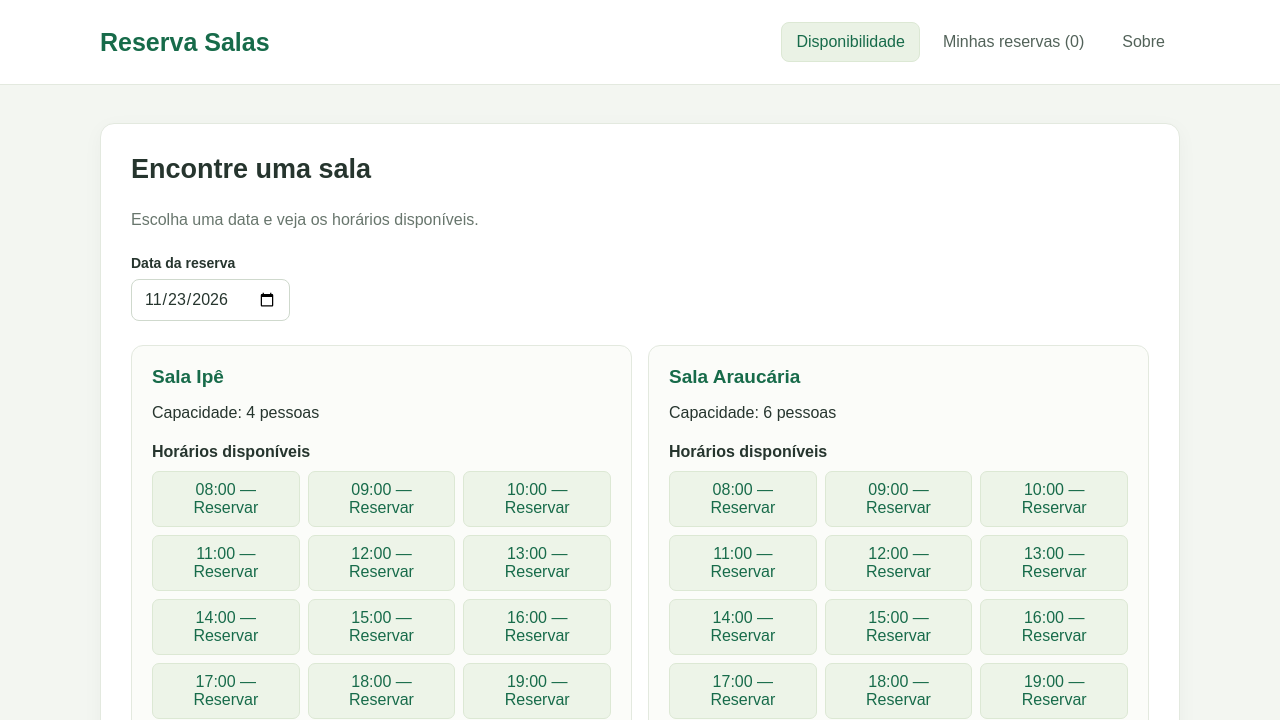
Reserva Salas › permite navegar até a seção Sobre
Click the button "Sobre" at (1144, 42), box x1=1107 y1=22 x2=1180 y2=62
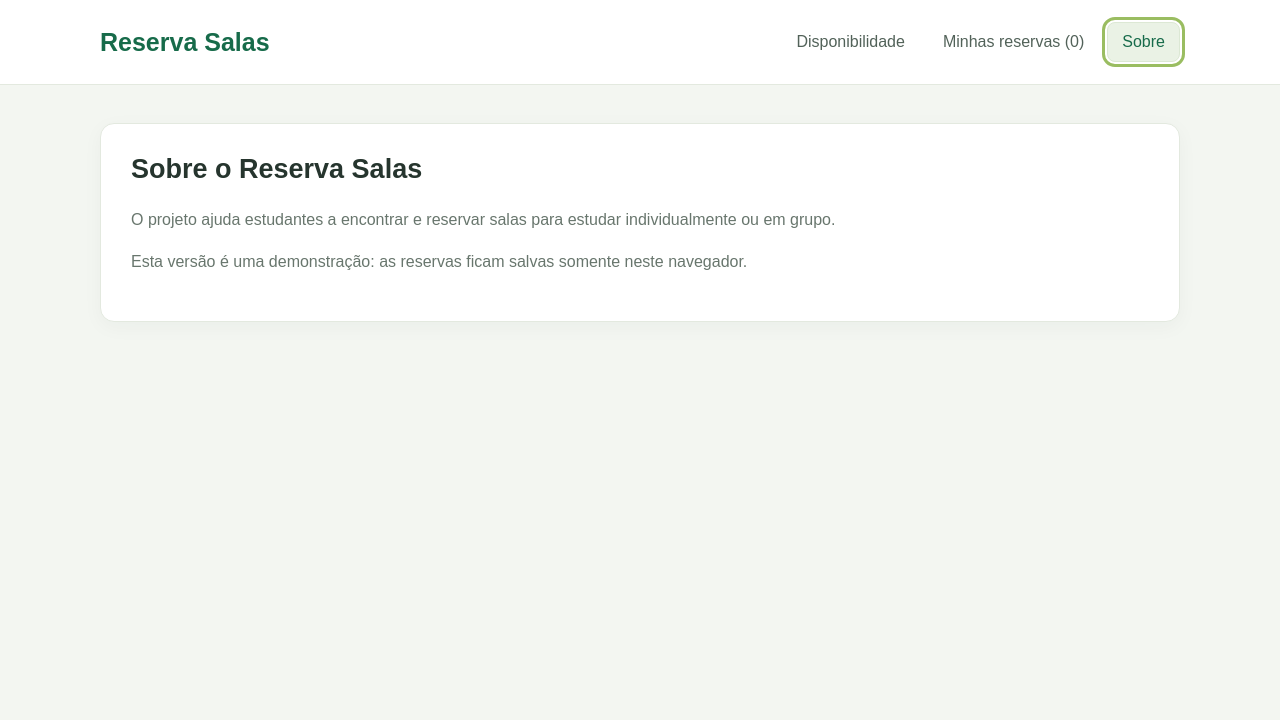
Now the heading "Sobre o Reserva Salas" is shown, box x1=131 y1=154 x2=422 y2=184
